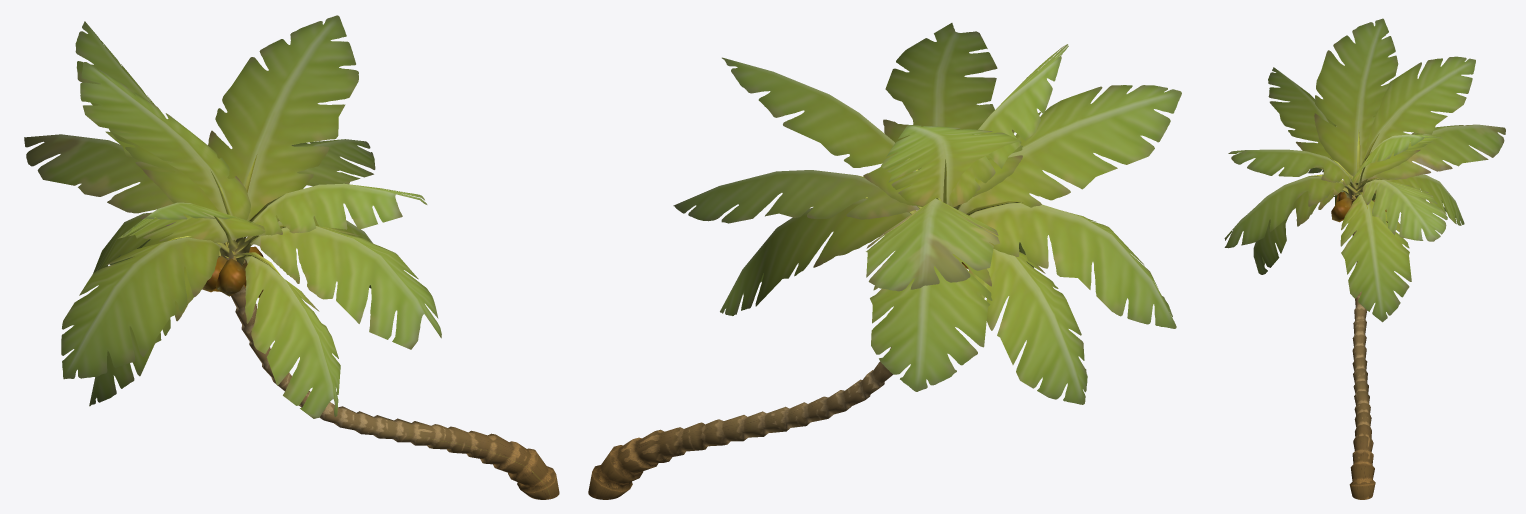
The model's file is coconut palm 01_lod2.obj.
The picture shows the model from 3 angles, left to right: view 1: azimuth 30°, elevation 25°; view 2: azimuth 150°, elevation 25°; view 3: azimuth 270°, elevation 25°; orthographic projection. The views are drawn at different scales.
Parts seen in each view (by area): view 1: tree; view 2: tree; view 3: tree.
Boxes of the visible parts, x1,y1,x2,y2 form: tree: [24, 15, 559, 499]; tree: [588, 23, 1181, 499]; tree: [1224, 18, 1505, 499].
Bounding box in the file's own units: 555 × 542 × 423.
